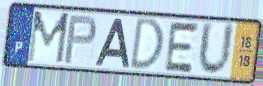A: (93, 17, 131, 69)
D: (128, 16, 166, 72)
E: (162, 20, 202, 75)
M: (25, 9, 71, 66)
P: (62, 14, 98, 65)
U: (196, 20, 236, 79)
